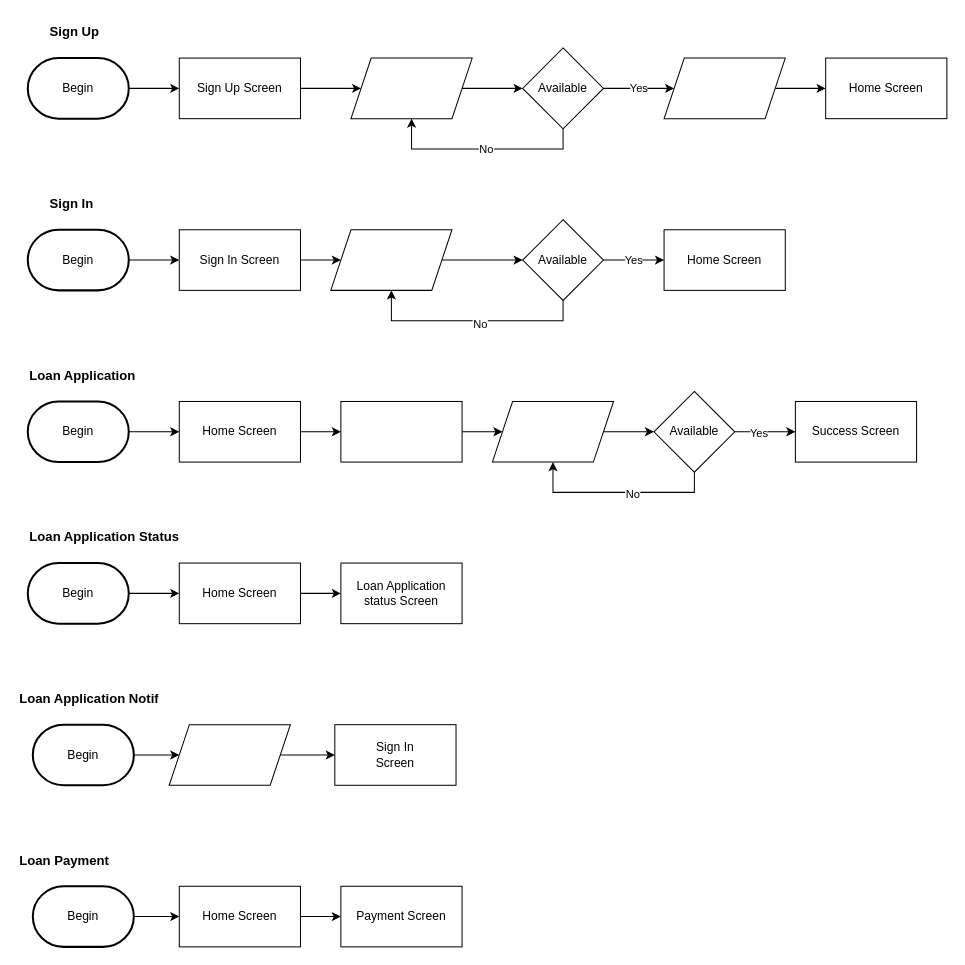
Image size: 965x965. Some labels were removed from this diagram. The shapes that lost their labels are listed below. From the top down, each one's box as (x1, y1, x2, y2) in pixels, then its label:
(350, 57, 472, 119): Input Personal Data
(663, 57, 785, 119): Verification Email / Phone
(330, 229, 452, 290): Input Username Password
(340, 400, 462, 462): Loan Application Screen
(491, 400, 614, 462): Input Loan Application
(168, 724, 290, 785): Notif Email & WA
